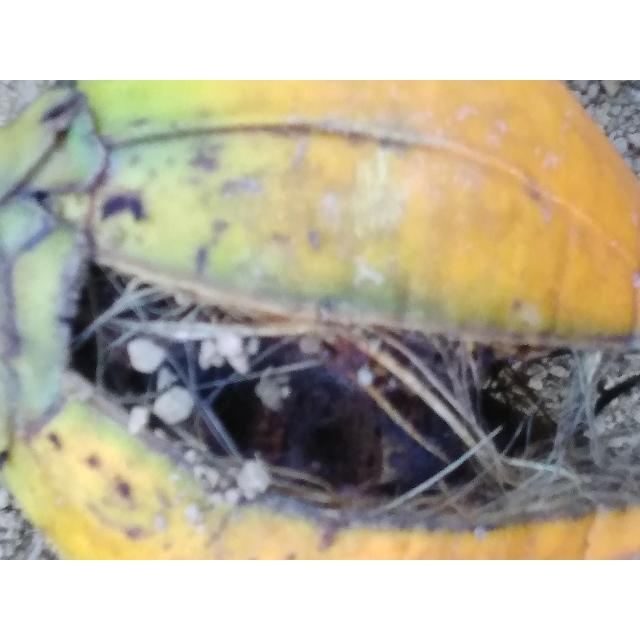damaged: (0, 80, 640, 560)
